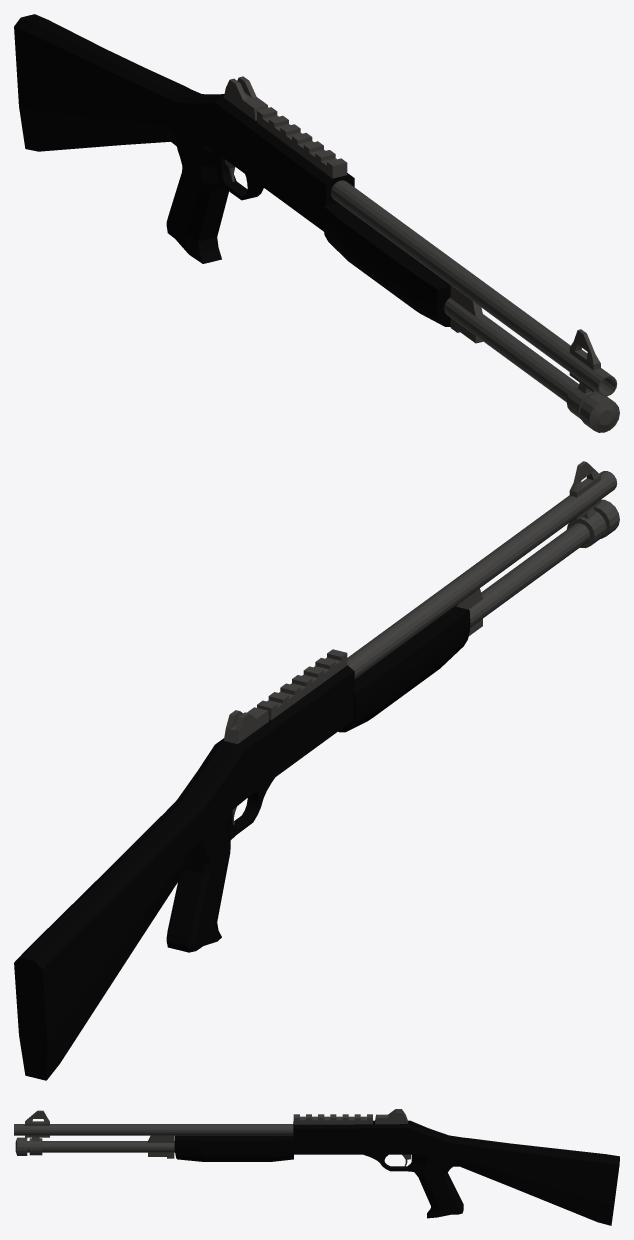
File: Koer Super 90.fbx
3 renders of one model, top to bottom at view 1: azimuth 30°, elevation 25°; view 2: azimuth 150°, elevation 25°; view 3: azimuth 270°, elevation 25°, orthographic. The views are drawn at different scales.
Visible parts, largest first — view 1: M4 Super 90; view 2: M4 Super 90; view 3: M4 Super 90.
Boxes of the visible parts, bbox=[...] form: M4 Super 90: bbox=[14, 14, 619, 432]; M4 Super 90: bbox=[14, 461, 619, 1080]; M4 Super 90: bbox=[14, 1109, 619, 1225].
Bounding box in the file's own units: 0.037 × 0.2084 × 1.02.
